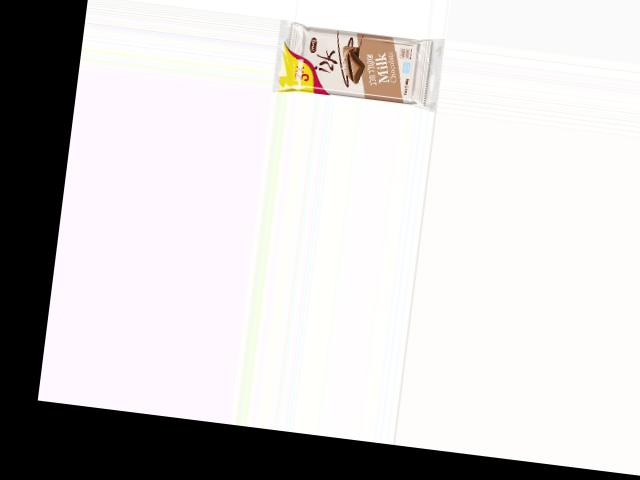chocolate: (271, 17, 430, 109)
